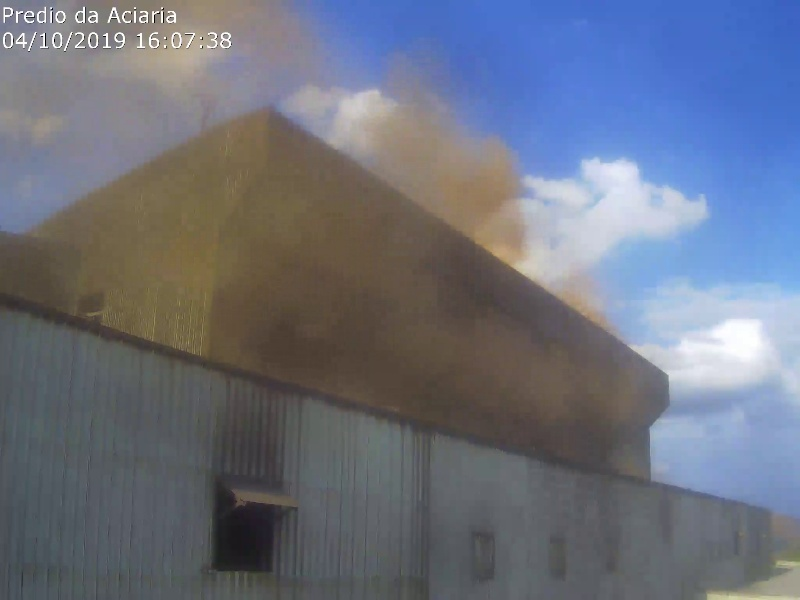bom: (636, 21, 800, 313)
pessimo: (230, 123, 624, 443), (15, 78, 260, 339)
ruim: (278, 23, 488, 117)
